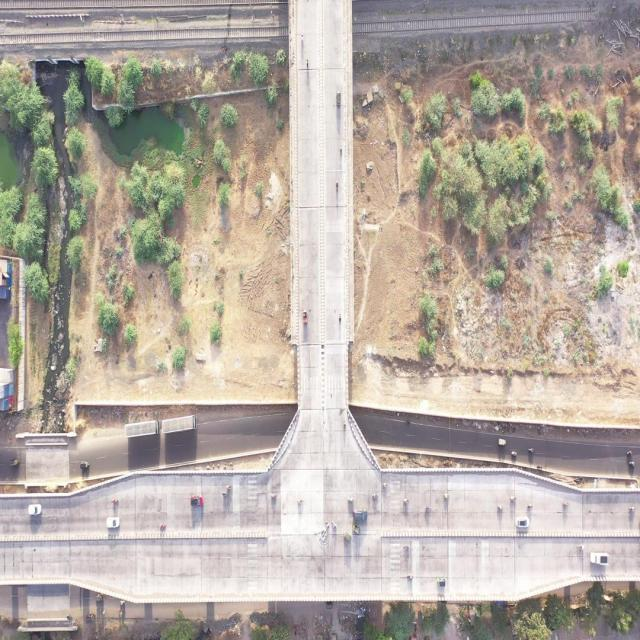3W: (78, 459, 91, 471), (436, 576, 448, 588), (335, 90, 342, 109), (8, 458, 20, 468), (496, 438, 508, 448), (94, 592, 104, 604), (343, 529, 352, 542), (86, 614, 97, 624), (351, 525, 361, 535), (302, 308, 308, 324), (324, 601, 334, 610)
Bus: (162, 413, 198, 435), (123, 418, 160, 439)
Cars: (28, 501, 44, 519), (105, 514, 121, 530), (190, 493, 204, 510), (514, 515, 530, 529), (352, 508, 368, 521)
LCV: (588, 550, 610, 569)
M2W: (333, 178, 341, 194), (560, 497, 569, 509), (626, 504, 636, 514), (342, 418, 348, 434), (337, 310, 343, 326), (509, 449, 518, 458), (496, 502, 504, 512), (111, 498, 120, 506), (158, 522, 167, 530), (297, 498, 305, 507), (331, 518, 337, 530), (347, 495, 355, 504), (442, 492, 450, 501), (401, 544, 410, 552), (509, 495, 517, 504), (300, 32, 306, 44), (380, 482, 390, 489), (407, 572, 414, 582), (576, 544, 586, 551), (306, 56, 310, 72), (324, 518, 330, 528), (270, 492, 277, 500), (372, 492, 379, 500), (536, 463, 544, 470), (527, 448, 535, 455), (404, 418, 411, 426), (339, 143, 343, 157), (402, 497, 411, 503), (527, 502, 533, 511), (628, 461, 637, 467), (625, 450, 634, 455), (119, 599, 125, 606), (225, 484, 232, 490), (425, 505, 431, 512), (222, 491, 228, 496)
